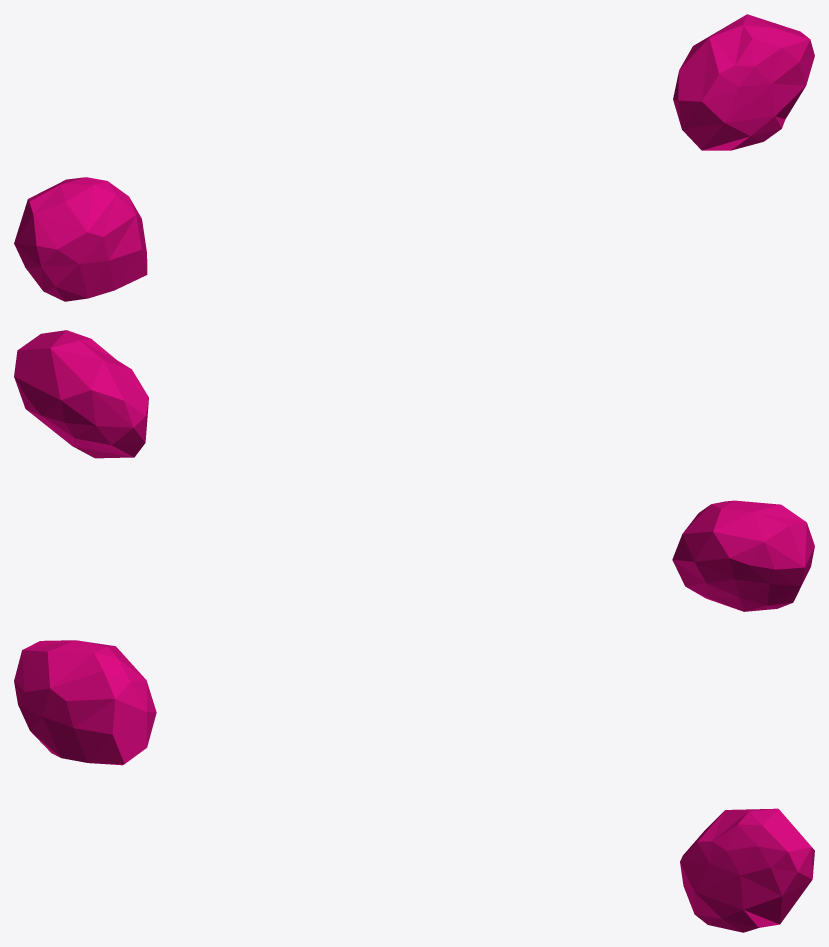
Rendered from 223-AHi-amygdalohippocampal area-('1.0000', '0.0000', '0.5725').obj.
3 views of the same model, one above another, from view 1: azimuth 30°, elevation 25°; view 2: azimuth 150°, elevation 25°; view 3: azimuth 330°, elevation 25° (orthographic).
Size of the model in its own units: 105 by 14.86 by 10.61.
